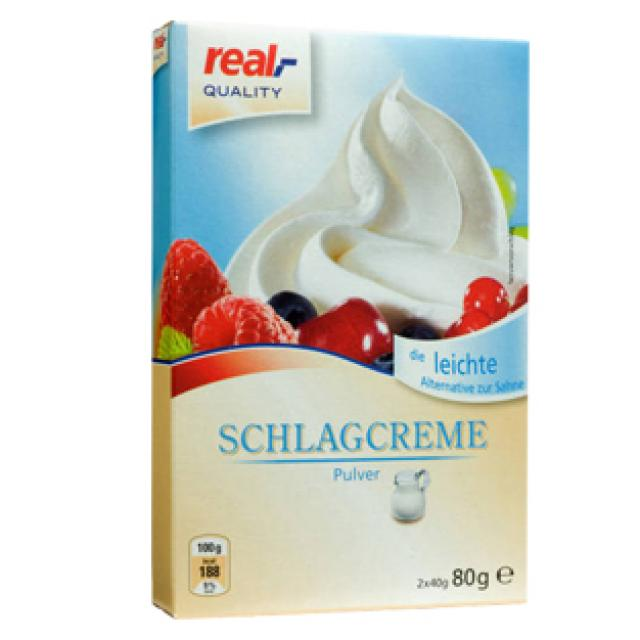Cream: (155, 22, 530, 620)
